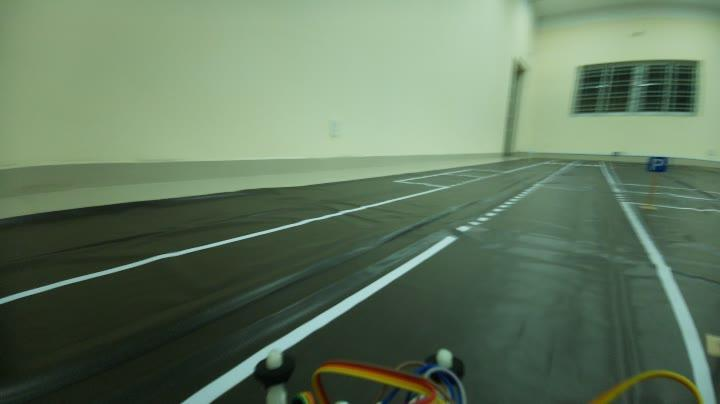parking: (638, 147, 671, 176)
